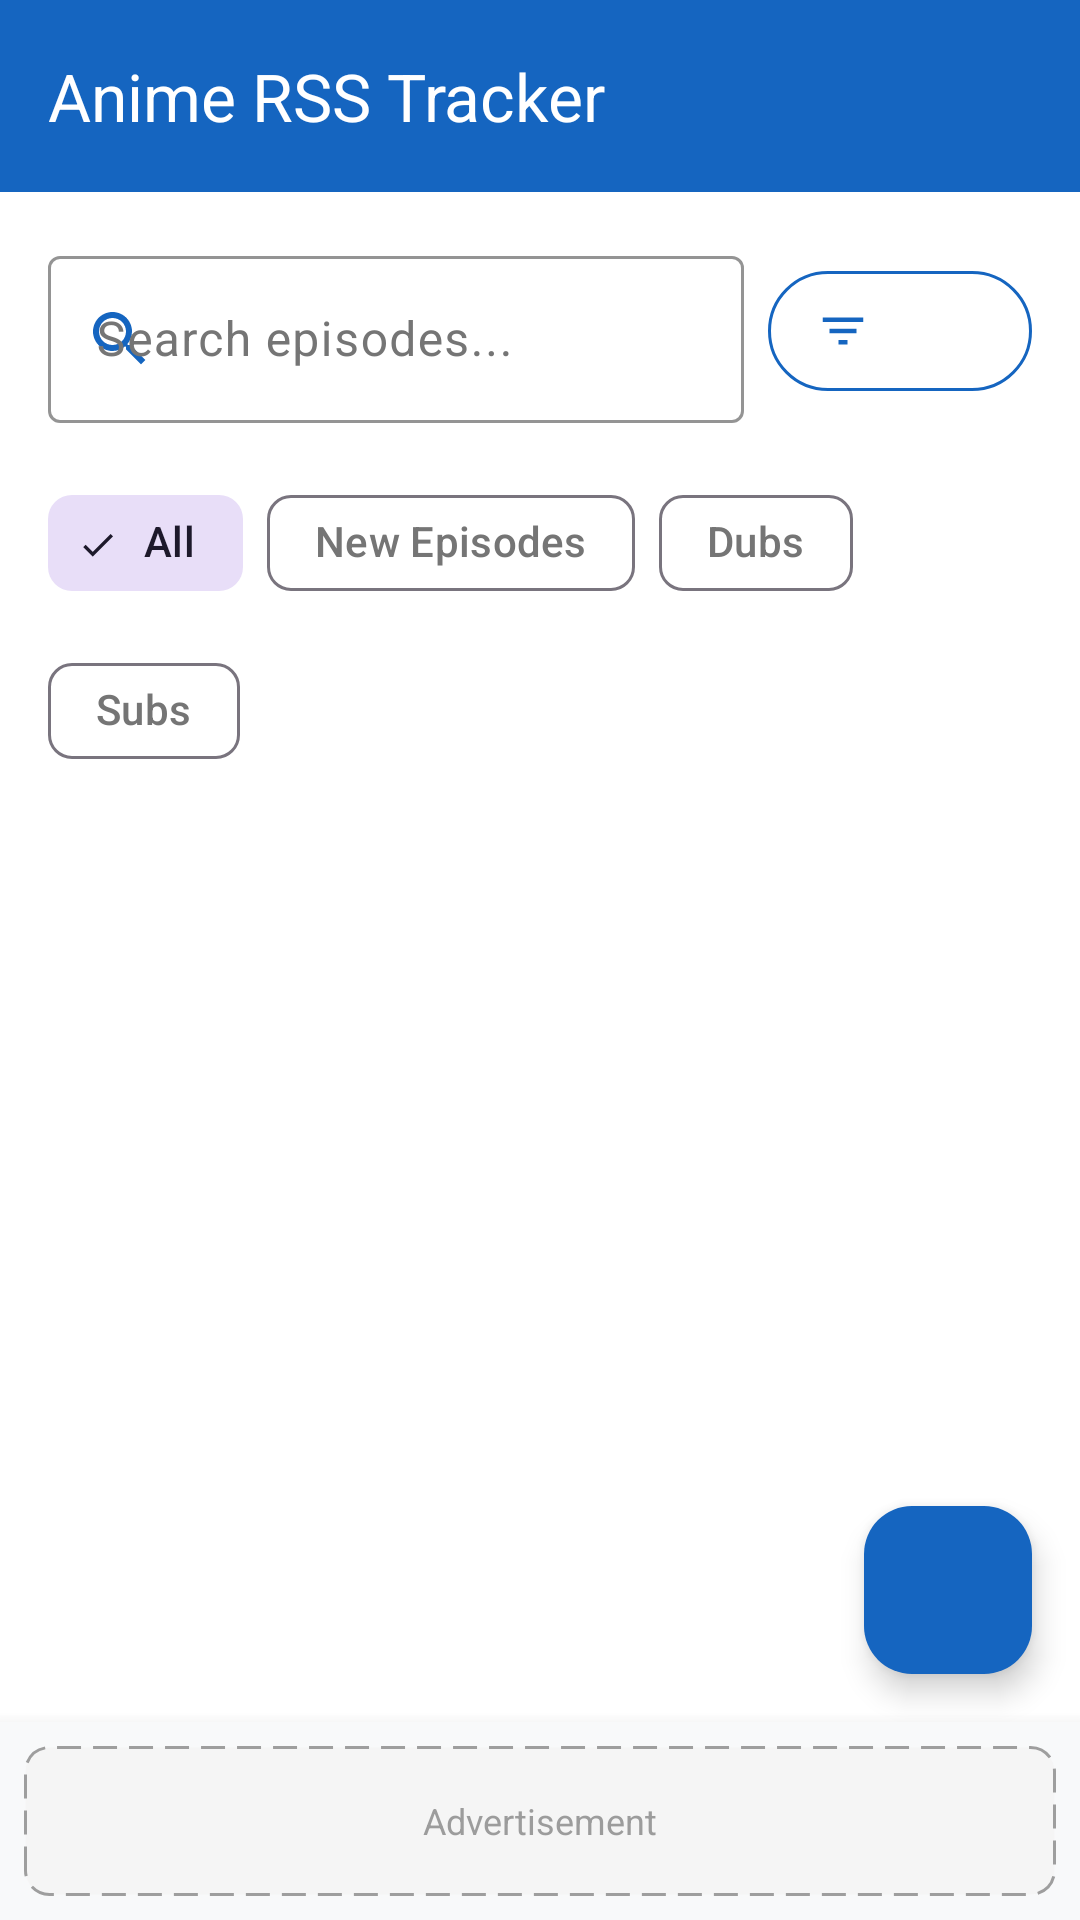

Screen size 1080*1920. Icon name, then its box in pixels as (x1, y1, x2, y2):
filter: (768, 271, 1032, 391)
